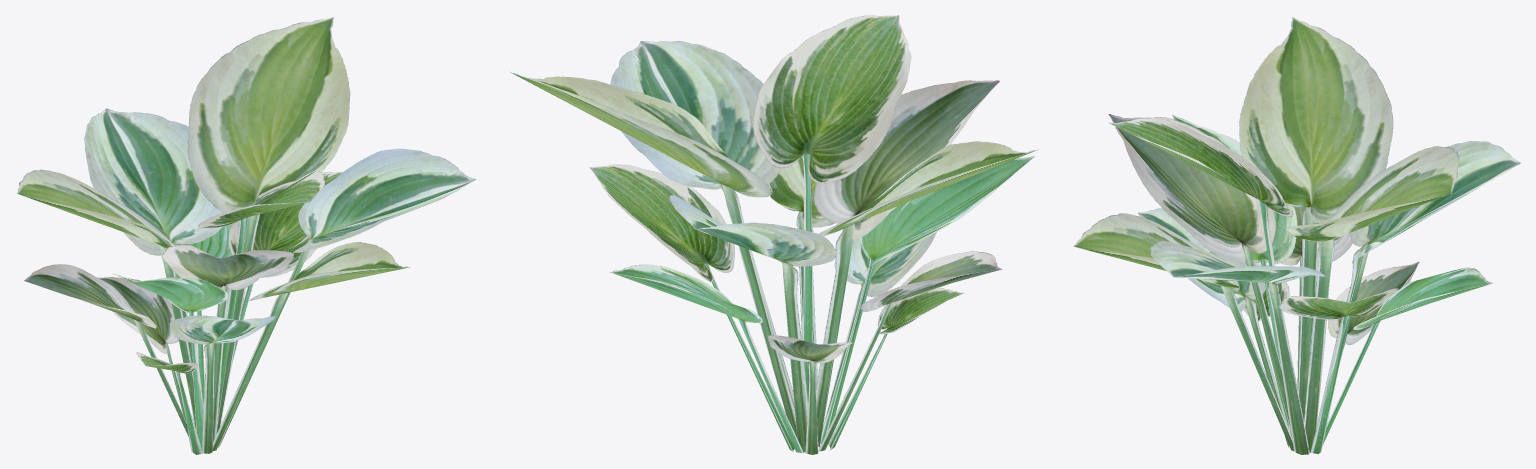
The model's file is plant_small_wg_00B2_wild.fbx.
3 views of the same model, side by side, from view 1: azimuth 30°, elevation 25°; view 2: azimuth 150°, elevation 25°; view 3: azimuth 270°, elevation 25° (orthographic). The views are drawn at different scales.
Visible parts, largest first — view 1: plant_small_wg_00B2_wild; view 2: plant_small_wg_00B2_wild; view 3: plant_small_wg_00B2_wild.
Boxes of the visible parts, <box> form: plant_small_wg_00B2_wild: <box>16,17,475,454</box>; plant_small_wg_00B2_wild: <box>509,15,1038,454</box>; plant_small_wg_00B2_wild: <box>1073,17,1520,454</box>.
Bounding box in the file's own units: 65.78 × 51.63 × 58.53.
